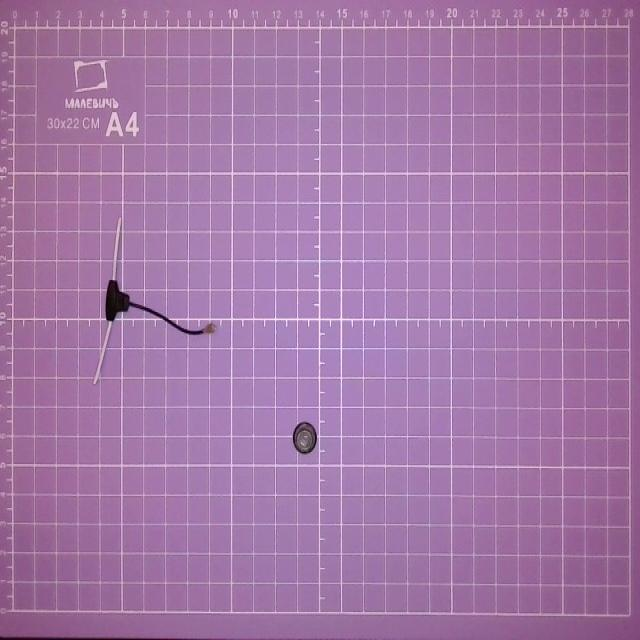antenna: (96, 218, 217, 385)
screw_M5: (288, 418, 320, 458)
